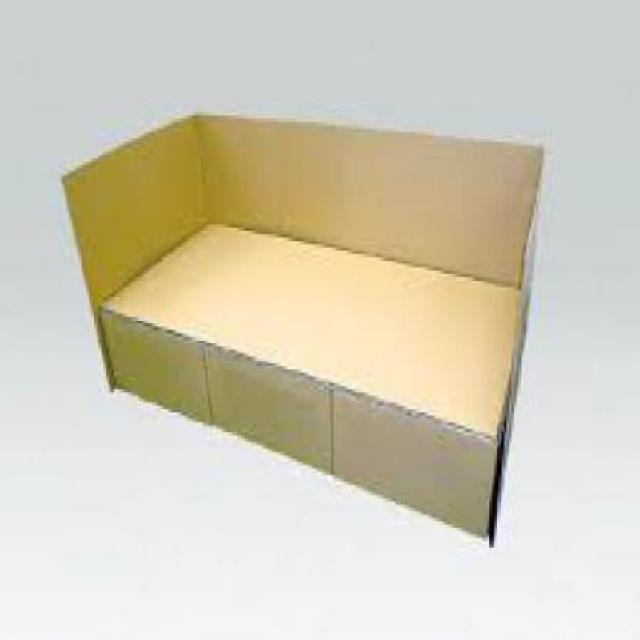PaperCardboard: (59, 114, 558, 551)
